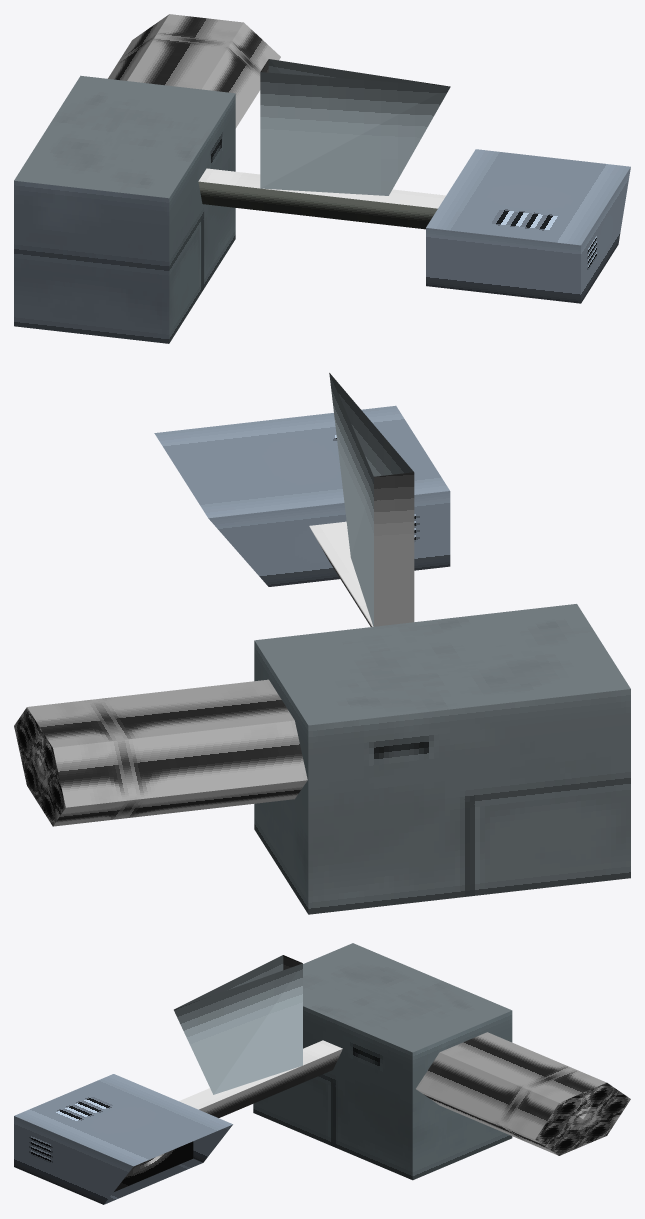
File: primary_074.glb
3 views of the same model, one above another, from view 1: azimuth 30°, elevation 25°; view 2: azimuth 150°, elevation 25°; view 3: azimuth 270°, elevation 25° (orthographic). The views are drawn at different scales.
Visible parts, largest first — view 1: Object; view 2: Object; view 3: Object.
Boxes of the visible parts, <box> form: Object: <box>14,14,630,343</box>; Object: <box>14,373,630,914</box>; Object: <box>14,943,630,1204</box>.
Size of the model in its own units: 2 by 0.9046 by 2.47.
19 materials, 19 textured.
